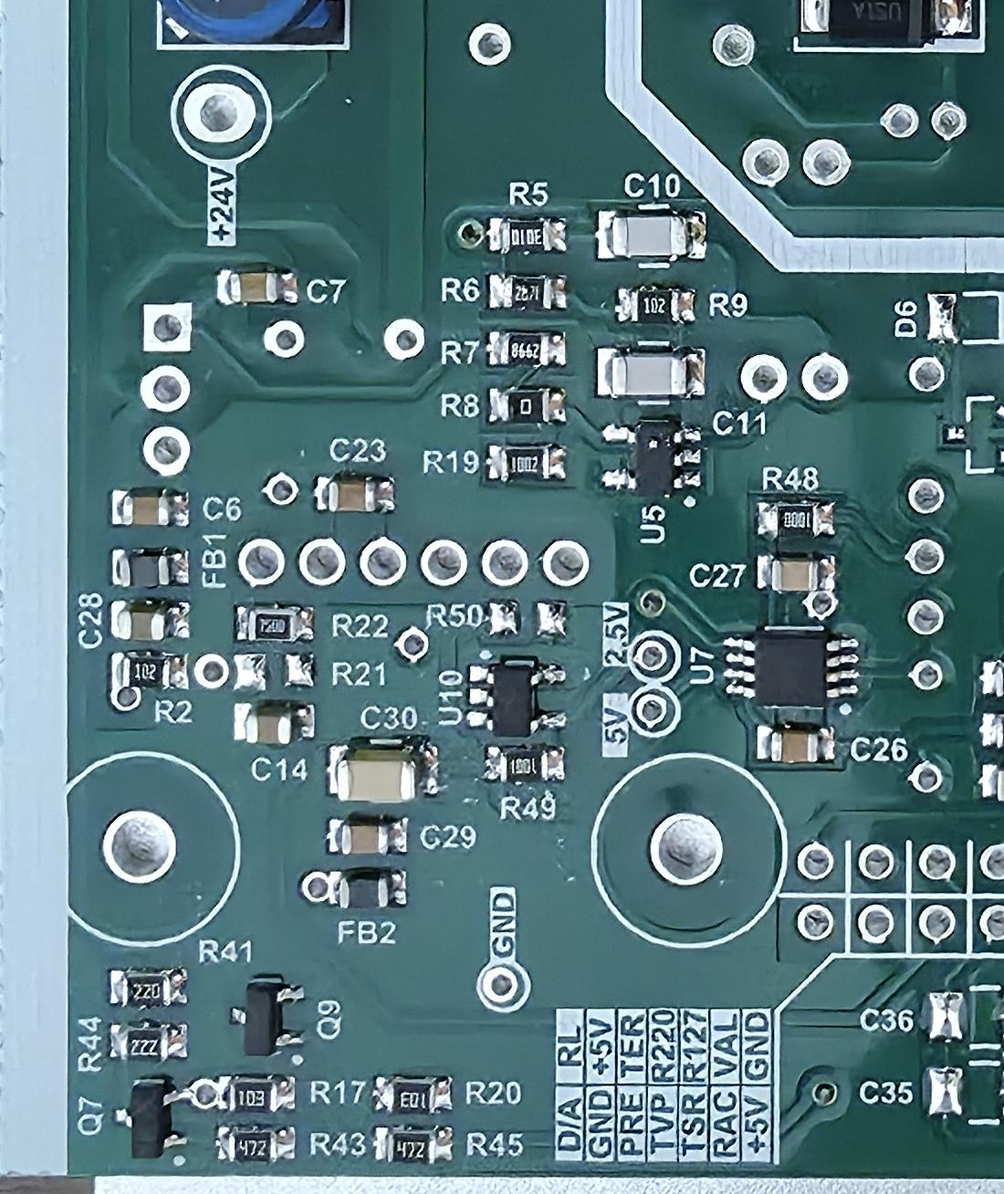C+: (318, 732, 441, 810), (590, 340, 709, 403), (596, 203, 709, 266), (106, 598, 198, 652), (225, 699, 320, 751), (310, 469, 398, 523), (214, 260, 301, 310), (106, 487, 188, 539), (323, 817, 416, 862), (753, 724, 835, 766), (751, 554, 835, 591)
R+: (482, 265, 568, 322), (485, 382, 580, 431), (483, 322, 572, 374), (105, 964, 191, 1016), (480, 742, 575, 789), (374, 1068, 459, 1119), (482, 438, 568, 487), (217, 1067, 299, 1117), (232, 603, 318, 650), (111, 1018, 191, 1067), (367, 1120, 454, 1165), (758, 498, 843, 544), (609, 286, 699, 328), (105, 650, 189, 693), (214, 1124, 301, 1165), (483, 219, 575, 256)
R/CFaltante: (227, 652, 322, 693)
U+: (715, 627, 869, 719), (456, 650, 572, 735), (598, 412, 709, 498)
